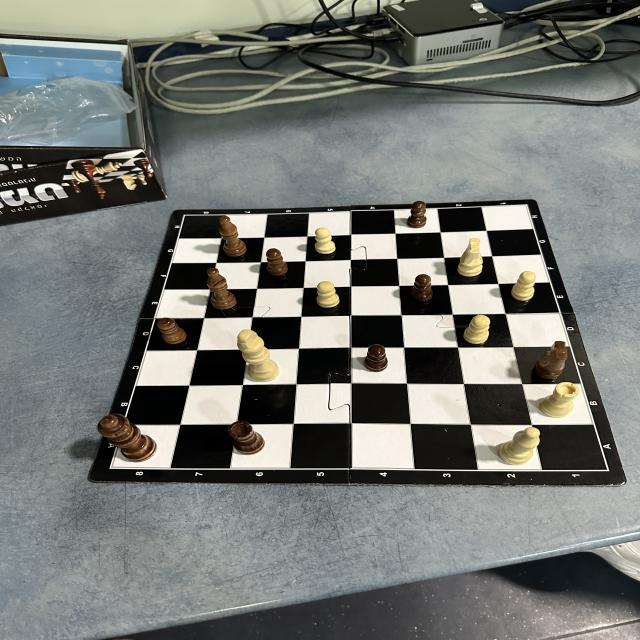Black-Bishop: (205, 267, 238, 310), (218, 216, 248, 256)
Black-Knight: (534, 340, 568, 380)
Black-Pawn: (157, 318, 187, 344), (364, 344, 388, 372), (410, 274, 433, 302), (266, 249, 289, 276), (407, 200, 426, 228)
Black-Queen: (96, 413, 156, 462)
Black-Rook: (227, 422, 265, 456)
White-Bishop: (499, 427, 541, 464)
White-King: (237, 329, 279, 381)
White-Knight: (458, 238, 482, 277)
White-Pawn: (465, 314, 491, 344), (511, 271, 535, 300), (316, 281, 341, 308), (314, 228, 336, 254)
White-Rook: (541, 382, 579, 418)
